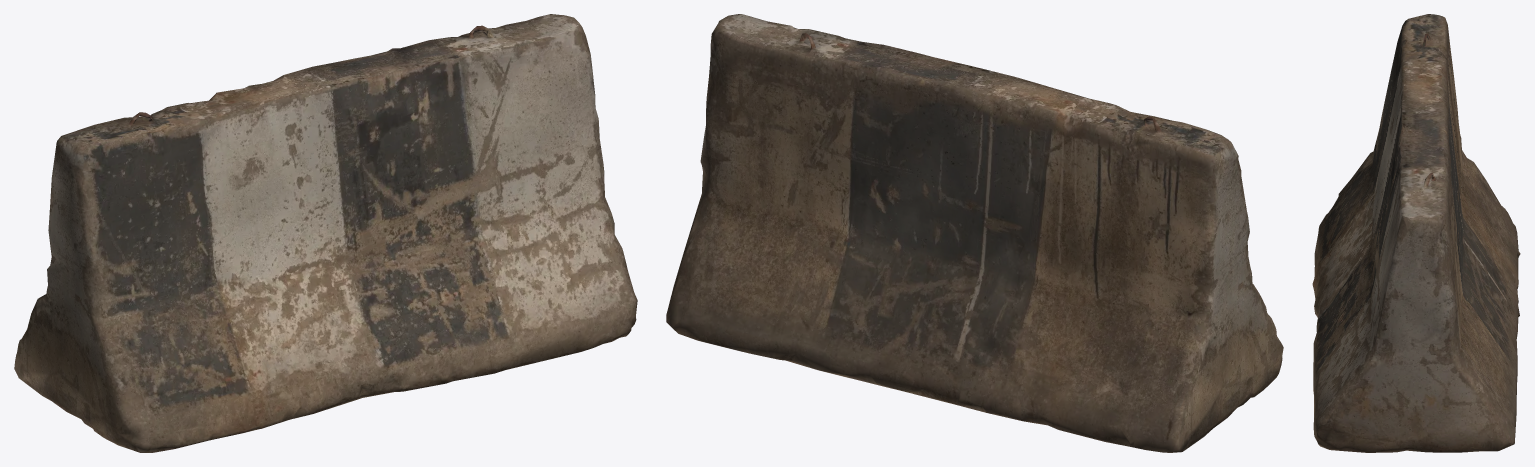
The model's file is concrete_road_barrier.glb.
3 renders of one model, left to right at view 1: azimuth 30°, elevation 25°; view 2: azimuth 150°, elevation 25°; view 3: azimuth 270°, elevation 25°, orthographic. The views are drawn at different scales.
Parts seen in each view (by area): view 1: concrete_road_barrier_LOD0; view 2: concrete_road_barrier_LOD0; view 3: concrete_road_barrier_LOD0.
Boxes of the visible parts, <box> form: concrete_road_barrier_LOD0: <box>14,14,637,452</box>; concrete_road_barrier_LOD0: <box>666,14,1283,452</box>; concrete_road_barrier_LOD0: <box>1312,14,1520,452</box>.
Bounding box in the file's own units: 1.54 × 0.8304 × 0.6387.
1 material, 1 textured.
